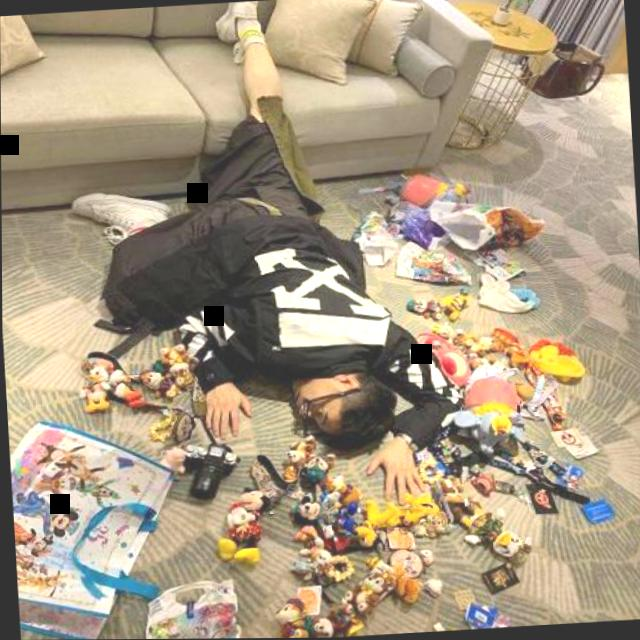Fall-Detected: (40, 0, 444, 539)
